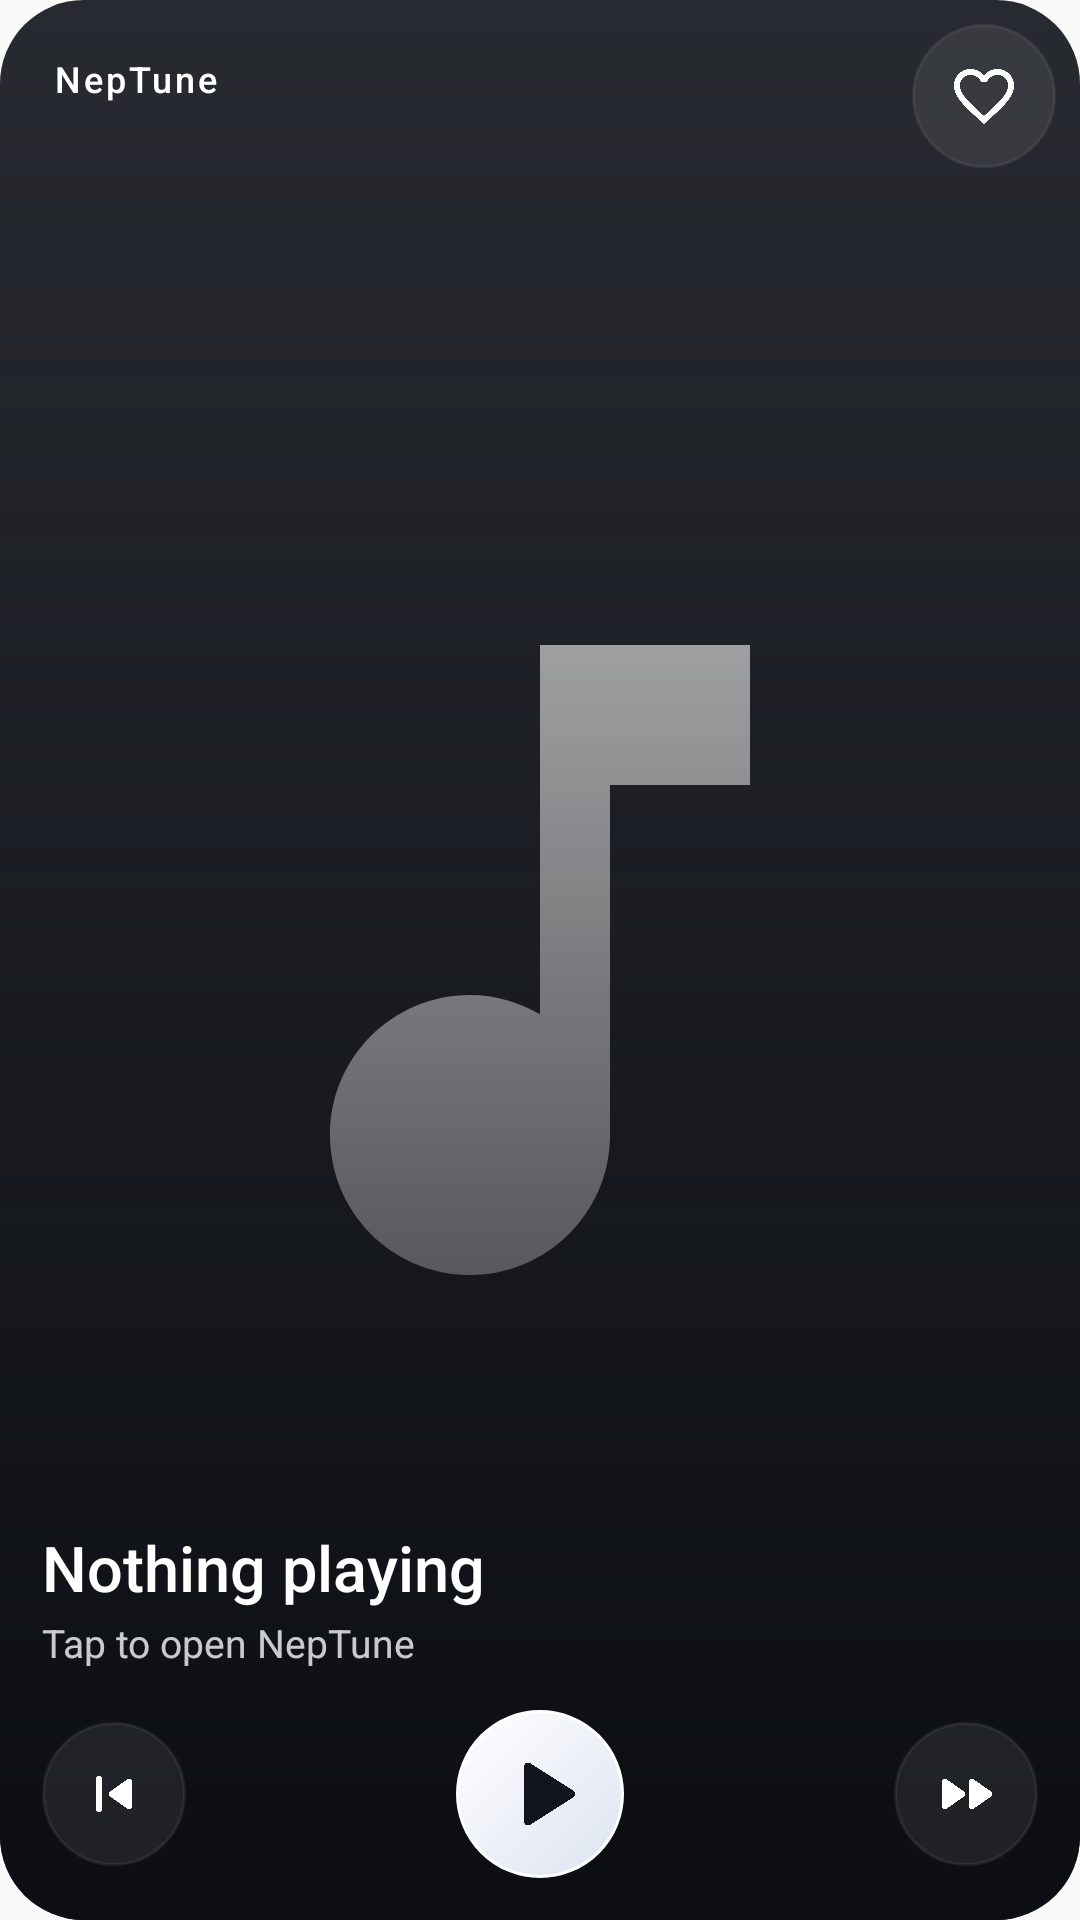

Icons on this 1080w x 1920h Android screen, each with its box as [left=x1, top=y1, right=x2, bottom=y2]:
Like: [left=912, top=24, right=1056, bottom=168]
Next: [left=894, top=1722, right=1038, bottom=1866]
Previous: [left=42, top=1722, right=186, bottom=1866]
